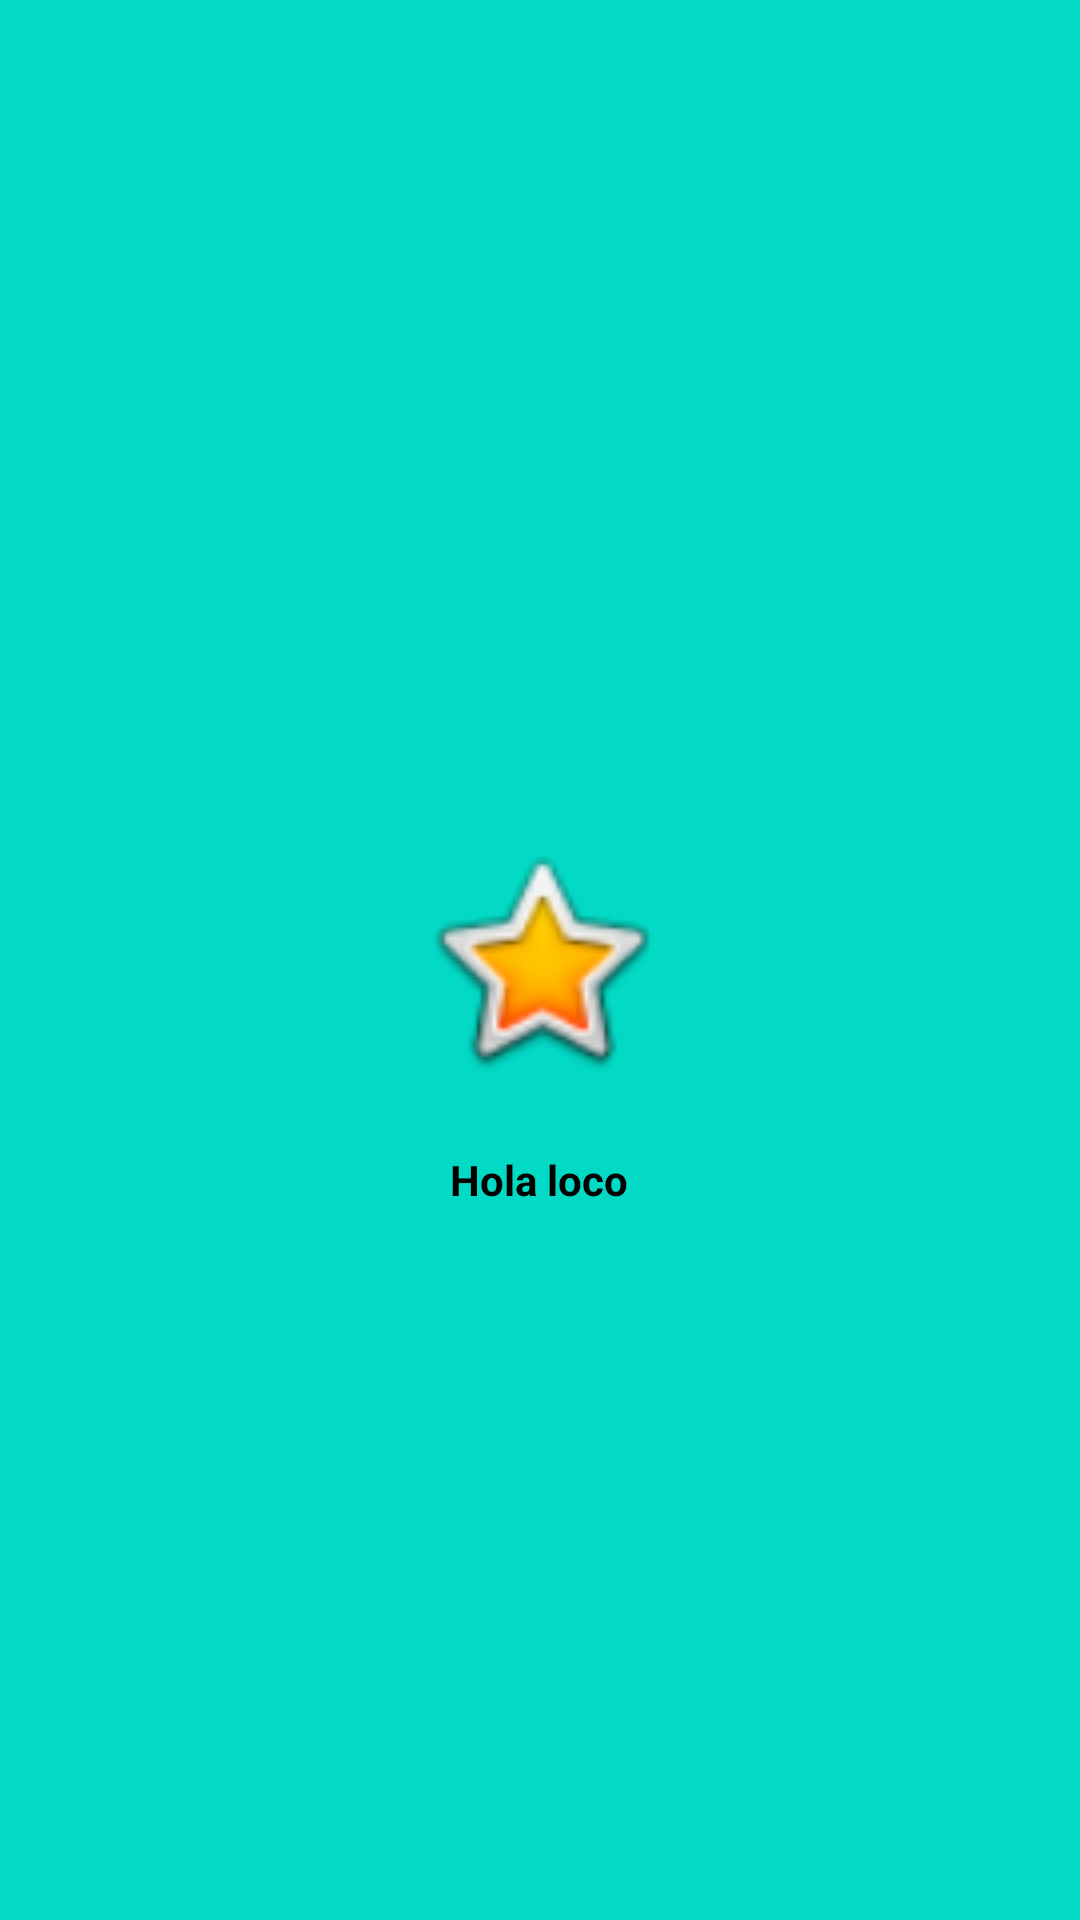

Screen size 1080x1920. Icon name, then its center in pixels as (x,y):
star on: (542,962)
